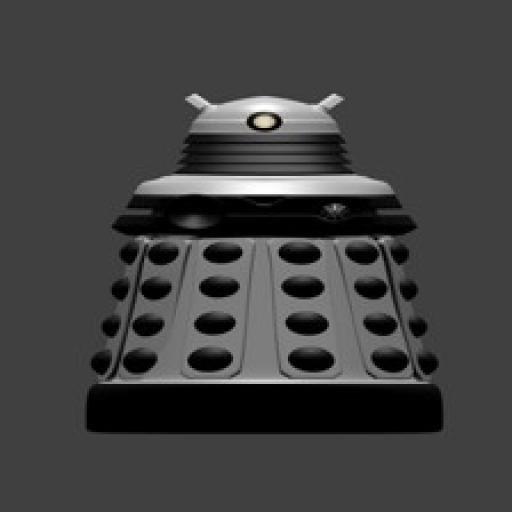dalek: (64, 83, 454, 450)
